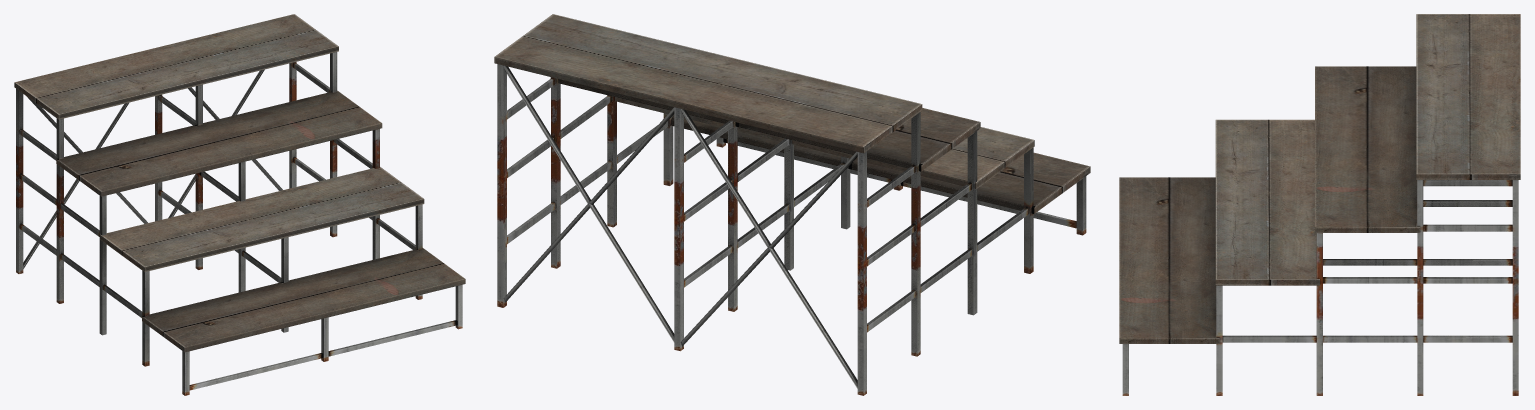
Rendered from Scaffolds_02.fbx.
3 views of the same model, side by side, from view 1: azimuth 30°, elevation 25°; view 2: azimuth 150°, elevation 25°; view 3: azimuth 270°, elevation 25° (orthographic). The views are drawn at different scales.
Parts seen in each view (by area): view 1: Scaffold03; view 2: Scaffold03; view 3: Scaffold03.
Part boxes in pixels (x1,y1,x2,y2): Scaffold03: [14, 14, 465, 395]; Scaffold03: [494, 14, 1090, 395]; Scaffold03: [1119, 14, 1520, 395].
Bounding box in the file's own units: 303 × 196 × 320.
